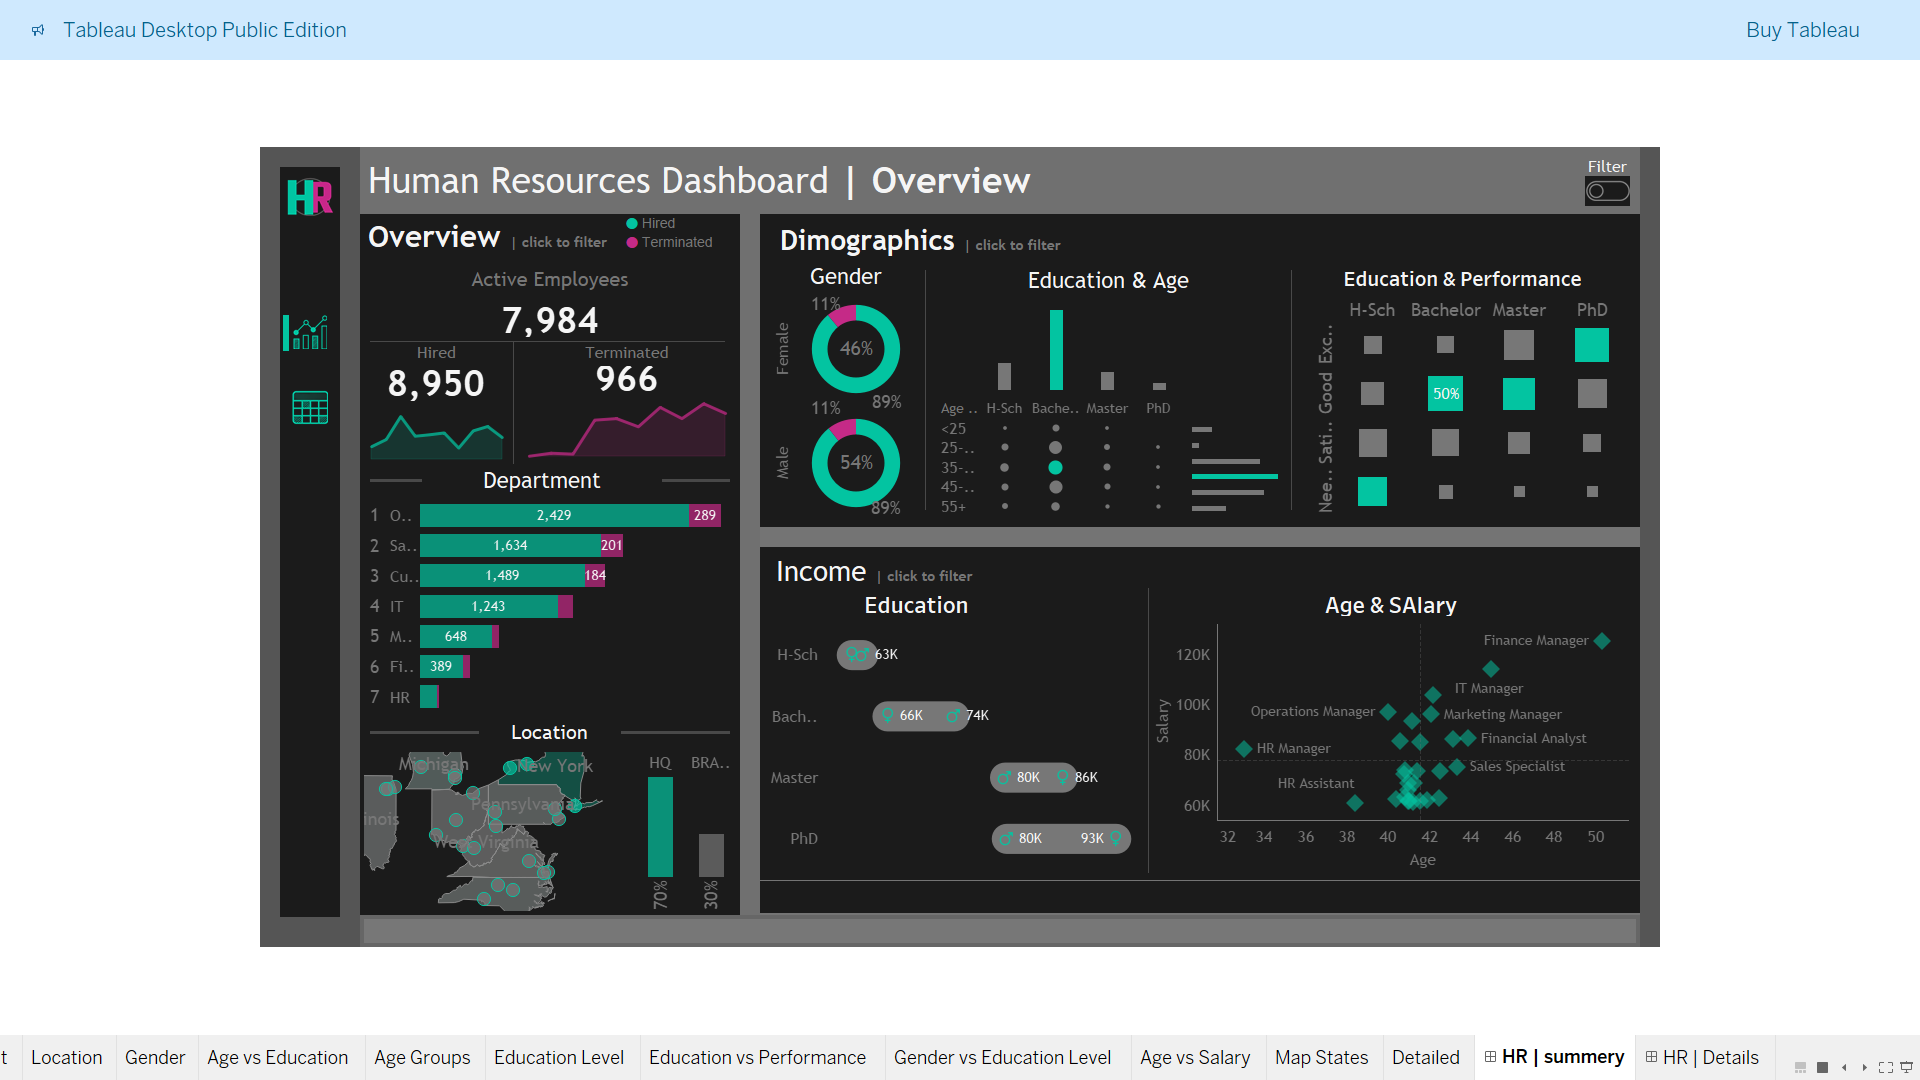

The dashboard page shown, as its layout file describes it:
{"tool":"tableau","page":{"name":"HR | summery","canvas":[1400,800],"ordinal":1},"visuals":[{"type":"text","box":[100,0,818,67]},{"type":"blank","box":[918,0,462,67]},{"type":"filter","title":"Gender vs Education Level","param":"[federated.1xtasmw177zjtx11qr2o500t1c2m].[none:Gender:nk]","box":[796,9,132,52]},{"type":"filter","title":"Gender vs Education Level","param":"[federated.1xtasmw177zjtx11qr2o500t1c2m].[none:Calculation_987977191241715715:nk","box":[928,9,131,52]},{"type":"filter","title":"Gender vs Education Level","param":"[federated.1xtasmw177zjtx11qr2o500t1c2m].[none:Calculation_373517318064070656:nk","box":[1059,9,131,52]},{"type":"filter","title":"Gender vs Education Level","param":"[federated.1xtasmw177zjtx11qr2o500t1c2m].[yr:Hiredate:ok]","box":[1190,9,131,52]},{"type":"image","param":"Image/Logo.png","box":[20,20,60,60]},{"type":"dashboard-object","box":[1325,29,45,30]},{"type":"text","box":[362,60,110,55]},{"type":"text","box":[100,67,380,44]},{"type":"text","box":[507,74,866,39]},{"type":"blank","box":[20,80,60,80]},{"type":"text","box":[100,111,380,42]},{"type":"text","box":[507,113,158,32]},{"type":"blank","box":[665,113,1,260.5]},{"type":"text","box":[671,113,355,38]},{"type":"blank","box":[1031,113,1,260.5]},{"type":"text","box":[1032,113,341,36]},{"type":"worksheet","title":"Gender","mark":"Pie","rows":["Gender"],"cols":["Calculation_987977191249063941","Calculation_987977191249063941"],"box":[507,145,158,228.5]},{"type":"worksheet","title":"Education vs Performance","mark":"Square","rows":["Performance Rating"],"cols":["Education Level"],"box":[1032,149,341,224.5]},{"type":"worksheet","title":"Education Level","mark":"Bar","rows":["Calculation_987977191170347008"],"cols":["Education Level"],"box":[671,151,355,96]},{"type":"worksheet","title":"BAN Active","mark":"Automatic","box":[100,153,380,41]},{"type":"dashboard-object","box":[20,160,60,50]},{"type":"blank","box":[23,168,6,36]},{"type":"blank","box":[100,194,380,1]},{"type":"text","box":[100,195,153,20]},{"type":"blank","box":[253,195,1,122]},{"type":"text","box":[254,195,226,20]},{"type":"blank","box":[20,210,60,25]},{"type":"worksheet","title":"BAN Hiered","mark":"Automatic","box":[100,215,153,43]},{"type":"worksheet","title":"BAN Terminated","mark":"Automatic","box":[254,215,226,33]},{"type":"dashboard-object","box":[20,235,60,50]},{"type":"worksheet","title":"Age vs Education","mark":"Circle","rows":["Calculation_987977191510228999"],"cols":["Education Level"],"box":[671,247,257,126.5]},{"type":"worksheet","title":"Age Groups","mark":"Bar","rows":["Calculation_987977191510228999"],"cols":["Calculation_987977191170347008"],"box":[928,247,98,126.5]},{"type":"worksheet","title":"Terminated by year","mark":"Automatic","rows":["Calculation_987977191171211265","Calculation_987977191171211265"],"cols":["Termdate"],"box":[254,248,226,69]},{"type":"worksheet","title":"Hired By Year","mark":"Automatic","rows":["Calculation_987977191170347008","Calculation_987977191170347008"],"cols":["Hiredate"],"box":[100,258,153,59]},{"type":"blank","box":[20,285,60,73.5]},{"type":"blank","box":[100,317,72,32]},{"type":"text","box":[172,317,220,32]},{"type":"blank","box":[392,317,88,32]},{"type":"worksheet","title":"Departmment","mark":"Automatic","rows":["Calculation_373517318065516546","Department"],"cols":["Calculation_987977191170347008"],"box":[100,349,380,220]},{"type":"blank","box":[20,358.5,60,338]},{"type":"text","box":[507,407.5,866,34]},{"type":"text","box":[507,441.5,381,32]},{"type":"blank","box":[888,441.5,1,285.5]},{"type":"text","box":[889,441.5,484,32]},{"type":"worksheet","title":"Gender vs Education Level","mark":"Square","rows":["Education Level"],"cols":["Salary","Salary"],"box":[507,473.5,381,253.5]},{"type":"worksheet","title":"Age vs Salary","mark":"Shape","rows":["Salary"],"cols":["Calculation_987977191507922950"],"box":[889,473.5,484,253.5]},{"type":"blank","box":[100,569,129.3,32]},{"type":"text","box":[229.3,569,121.3,32]},{"type":"blank","box":[350.7,569,129.3,32]},{"type":"worksheet","title":"Map States","mark":"Automatic","box":[100,601,271,167]},{"type":"worksheet","title":"Location","mark":"Automatic","rows":["Calculation_987977191170347008"],"cols":["Calculation_987977191241715715"],"box":[371,601,109,167]},{"type":"blank","box":[20,696.5,60,73.5]},{"type":"blank","box":[500,734,880,32]},{"type":"blank","box":[500,766,880,1]},{"type":"blank","box":[500,767,880,1]},{"type":"blank","box":[100,768,1280,32]}]}

Visuals, with their boxes on the page's 1400x800 design canvas (x1, y1, x2, y2). These are canvas units, not pixel positions in the 1920x1080 screenshot, which may show the page scaled, cropped or inside an application window:
text: 100 0 918 67
blank: 918 0 1380 67
"Gender vs Education Level" filter: 796 9 928 61
"Gender vs Education Level" filter: 928 9 1059 61
"Gender vs Education Level" filter: 1059 9 1190 61
"Gender vs Education Level" filter: 1190 9 1321 61
image: 20 20 80 80
dashboard-object: 1325 29 1370 59
text: 362 60 472 115
text: 100 67 480 111
text: 507 74 1373 113
blank: 20 80 80 160
text: 100 111 480 153
text: 507 113 665 145
blank: 665 113 666 374
text: 671 113 1026 151
blank: 1031 113 1032 374
text: 1032 113 1373 149
"Gender" worksheet (Pie marks): 507 145 665 374
"Education vs Performance" worksheet (Square marks): 1032 149 1373 374
"Education Level" worksheet (Bar marks): 671 151 1026 247
"BAN Active" worksheet: 100 153 480 194
dashboard-object: 20 160 80 210
blank: 23 168 29 204
blank: 100 194 480 195
text: 100 195 253 215
blank: 253 195 254 317
text: 254 195 480 215
blank: 20 210 80 235
"BAN Hiered" worksheet: 100 215 253 258
"BAN Terminated" worksheet: 254 215 480 248
dashboard-object: 20 235 80 285
"Age vs Education" worksheet (Circle marks): 671 247 928 374
"Age Groups" worksheet (Bar marks): 928 247 1026 374
"Terminated by year" worksheet: 254 248 480 317
"Hired By Year" worksheet: 100 258 253 317
blank: 20 285 80 358
blank: 100 317 172 349
text: 172 317 392 349
blank: 392 317 480 349
"Departmment" worksheet: 100 349 480 569
blank: 20 358 80 696
text: 507 408 1373 442
text: 507 442 888 474
blank: 888 442 889 727
text: 889 442 1373 474
"Gender vs Education Level" worksheet (Square marks): 507 474 888 727
"Age vs Salary" worksheet (Shape marks): 889 474 1373 727
blank: 100 569 229 601
text: 229 569 351 601
blank: 351 569 480 601
"Map States" worksheet: 100 601 371 768
"Location" worksheet: 371 601 480 768
blank: 20 696 80 770
blank: 500 734 1380 766
blank: 500 766 1380 767
blank: 500 767 1380 768
blank: 100 768 1380 800
